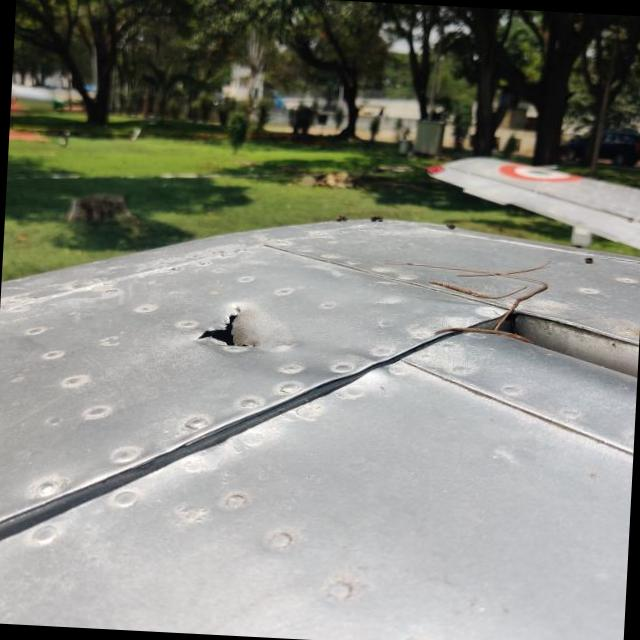Crack: (199, 307, 272, 348)
